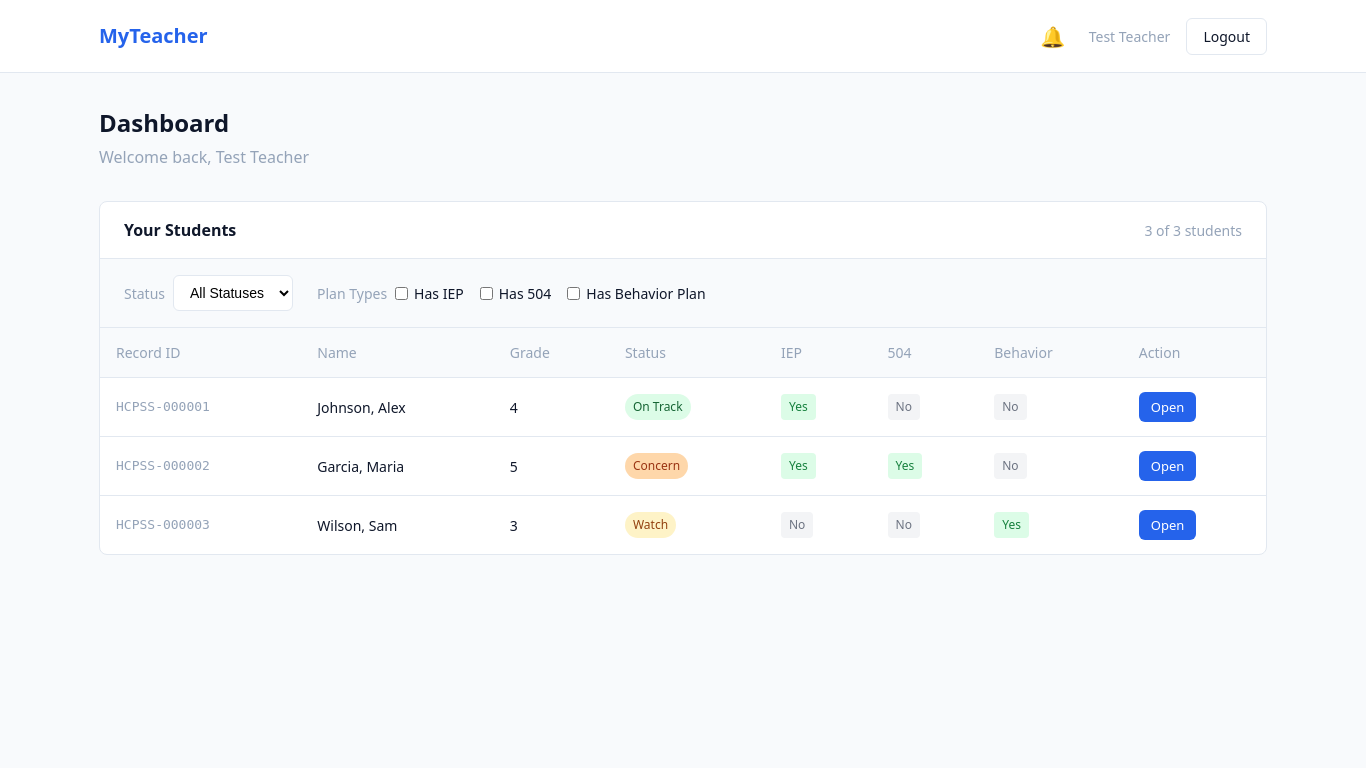
Dashboard Page › Filtering › filters students by status
The width and height of the screenshot is (1366, 768).
Expected: the text "3 of 3 students" is shown, 1144,220 -> 1242,240
# Select "Watch" status
Select "Watch" in the dropdown at (233, 293), box 173,275 -> 293,311
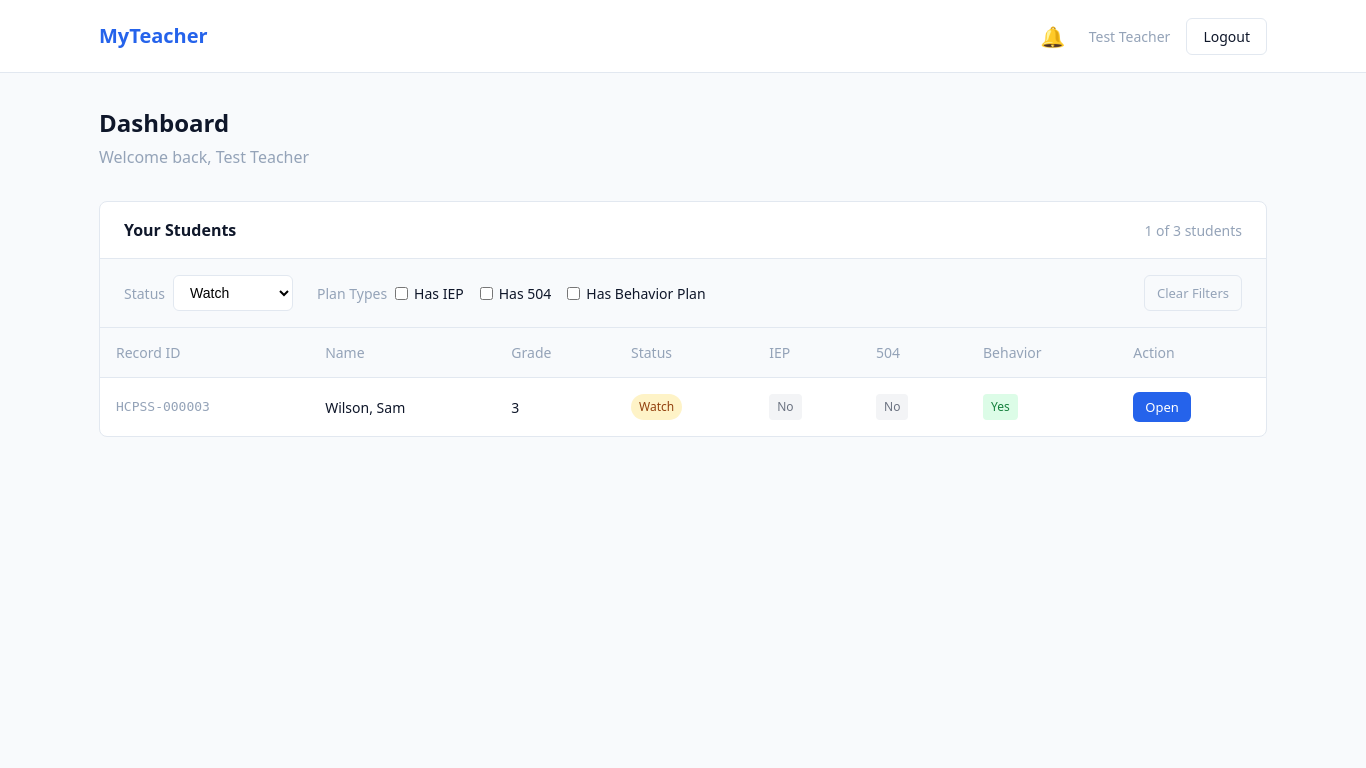
Expected: the text "Wilson, Sam" is shown, 309,378 -> 495,436
Expected: the text "1 of 3 students" is shown, 1144,220 -> 1242,240
Expected: the text "Johnson, Alex" is gone
